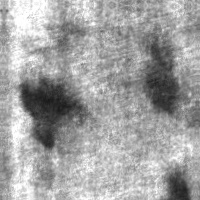patches: (16, 76, 82, 148), (142, 40, 178, 112), (160, 165, 191, 199)
